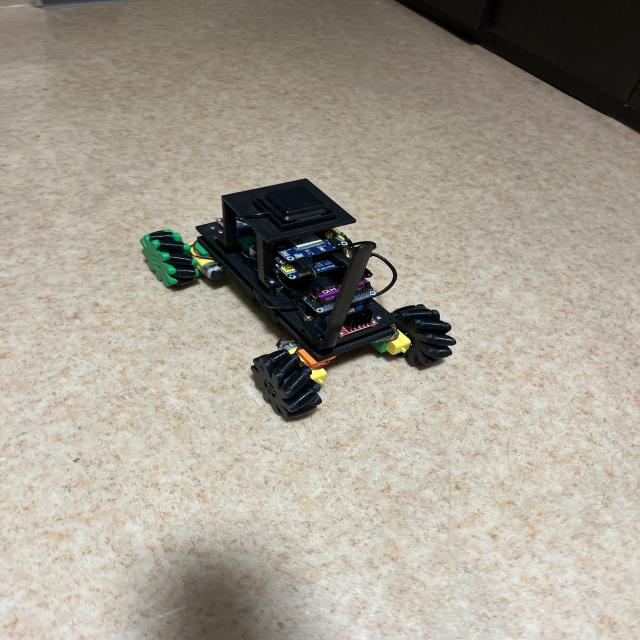robot: (141, 179, 456, 418)
